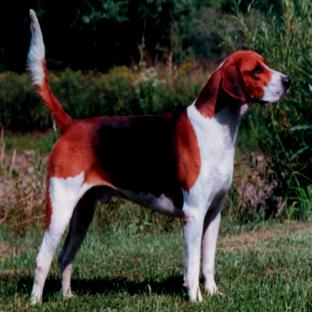Animal: (29, 9, 290, 303)
